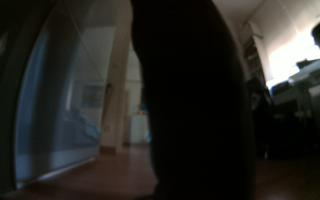person: (120, 1, 264, 200)
